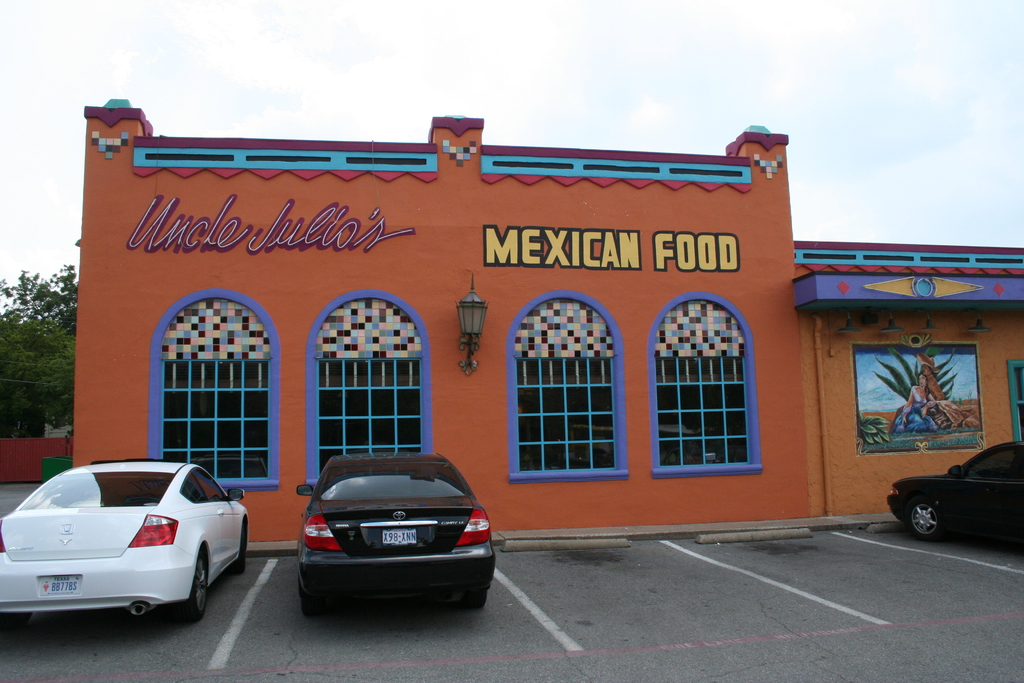Car: (0, 460, 252, 627), (288, 447, 494, 610), (875, 438, 1023, 550)
